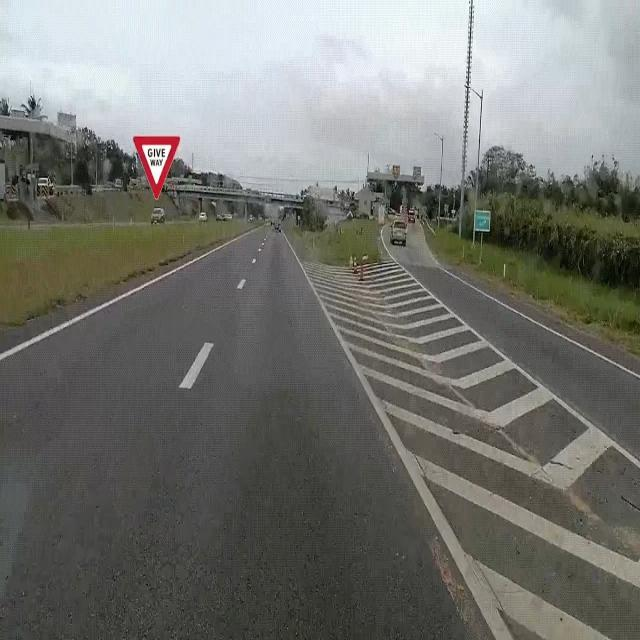Ceder-le-Passage: (127, 124, 181, 206)
